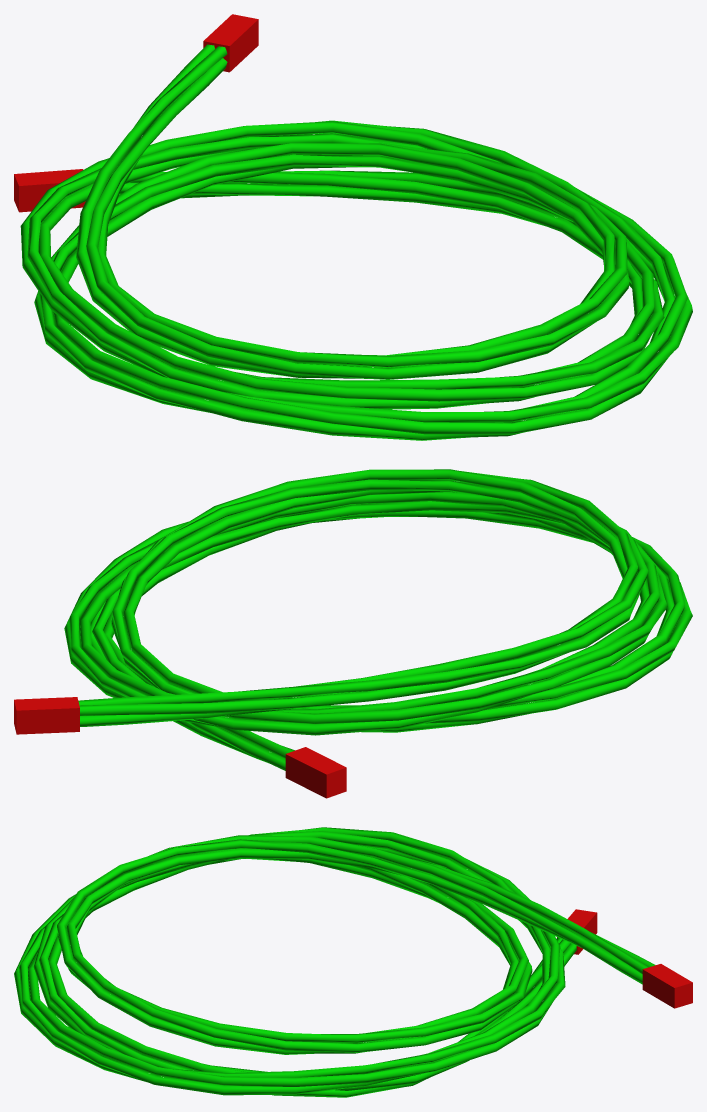
The model's file is Fibre Optic Cable Folded.fbx.
3 renders of one model, top to bottom at view 1: azimuth 30°, elevation 25°; view 2: azimuth 150°, elevation 25°; view 3: azimuth 270°, elevation 25°, orthographic. The views are drawn at different scales.
Visible parts, largest first — view 1: Fibre Cable Folded; view 2: Fibre Cable Folded; view 3: Fibre Cable Folded.
Part boxes in pixels (left/top/right/bottom): Fibre Cable Folded: left=14, top=14, right=692, bottom=440; Fibre Cable Folded: left=14, top=469, right=692, bottom=798; Fibre Cable Folded: left=14, top=827, right=692, bottom=1097.
Size of the model in its own units: 8.53 by 1.3 by 10.98.
